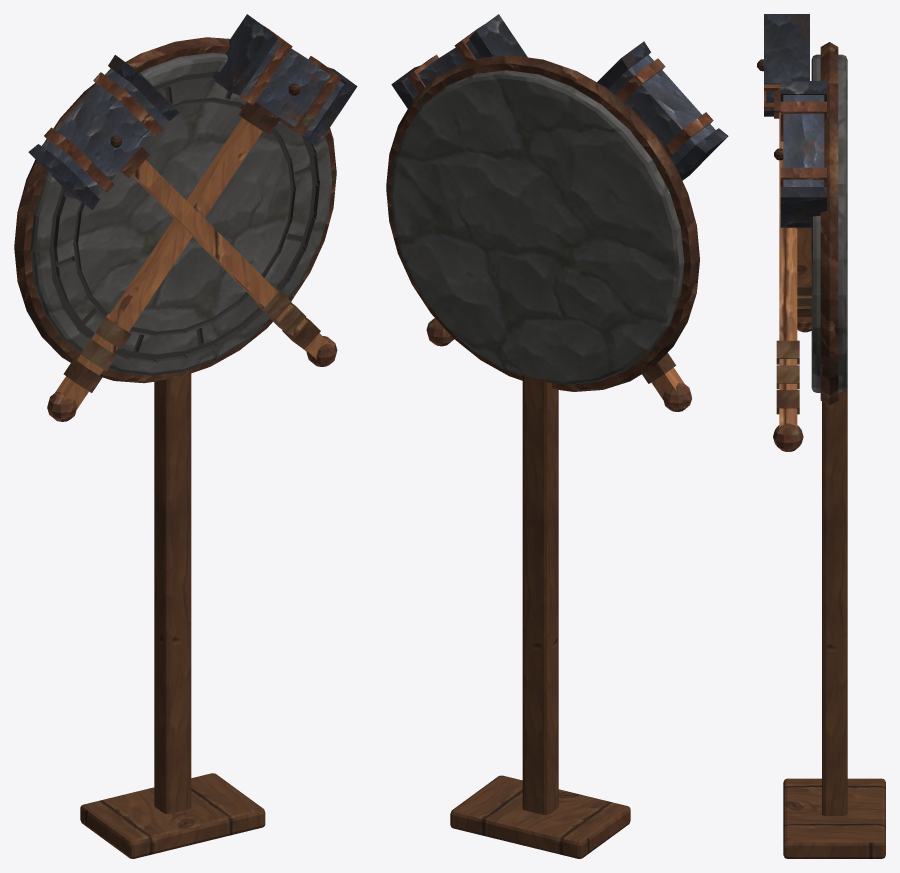
File: hm_crossed_hammers.glb
3 renders of one model, left to right at view 1: azimuth 30°, elevation 25°; view 2: azimuth 150°, elevation 25°; view 3: azimuth 270°, elevation 25°, orthographic. The views are drawn at different scales.
Visible parts, largest first — view 1: model; view 2: model; view 3: model.
Part boxes in pixels (bbox=[...]): model: bbox=[14, 14, 357, 858]; model: bbox=[386, 14, 728, 858]; model: bbox=[757, 14, 885, 858].
Bounding box in the file's own units: 0.71 × 1.68 × 0.2514.
9 materials, 8 textured.
